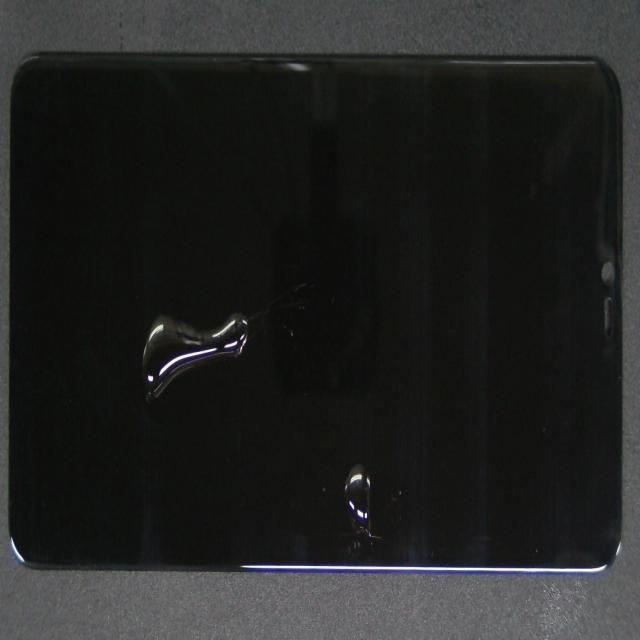oil: (191, 228, 538, 640), (130, 182, 379, 490)
